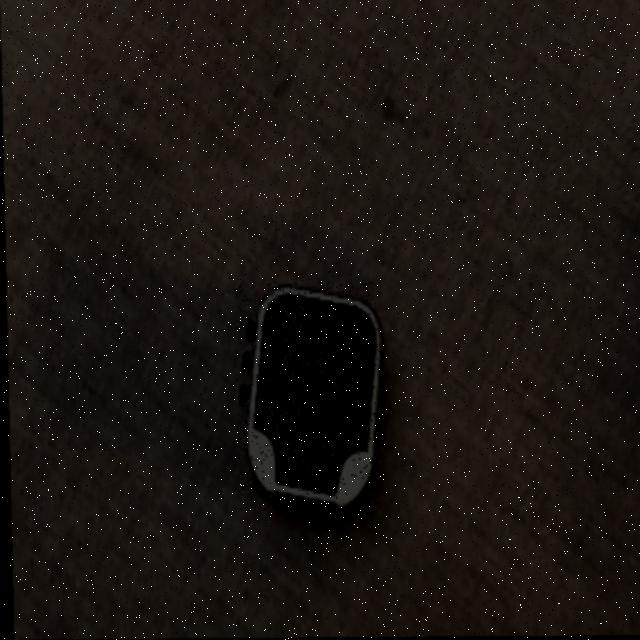adapter: (233, 282, 383, 511)
